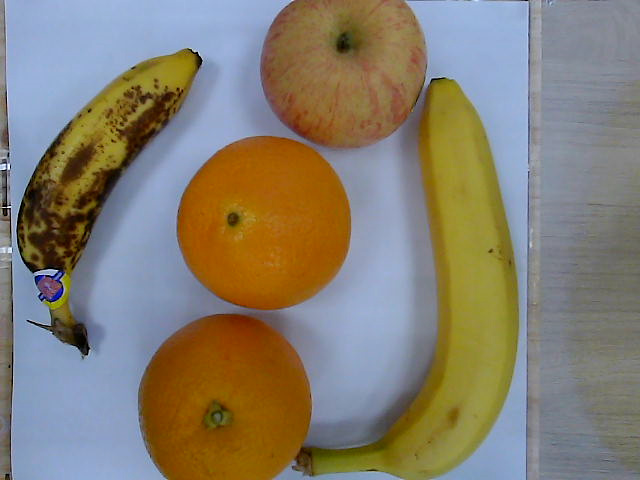fresh_apple: (257, 1, 427, 148)
fresh_banana: (312, 79, 521, 480)
fresh_orange: (177, 136, 352, 308), (137, 315, 311, 480)
rotten_banana: (19, 47, 198, 356)
